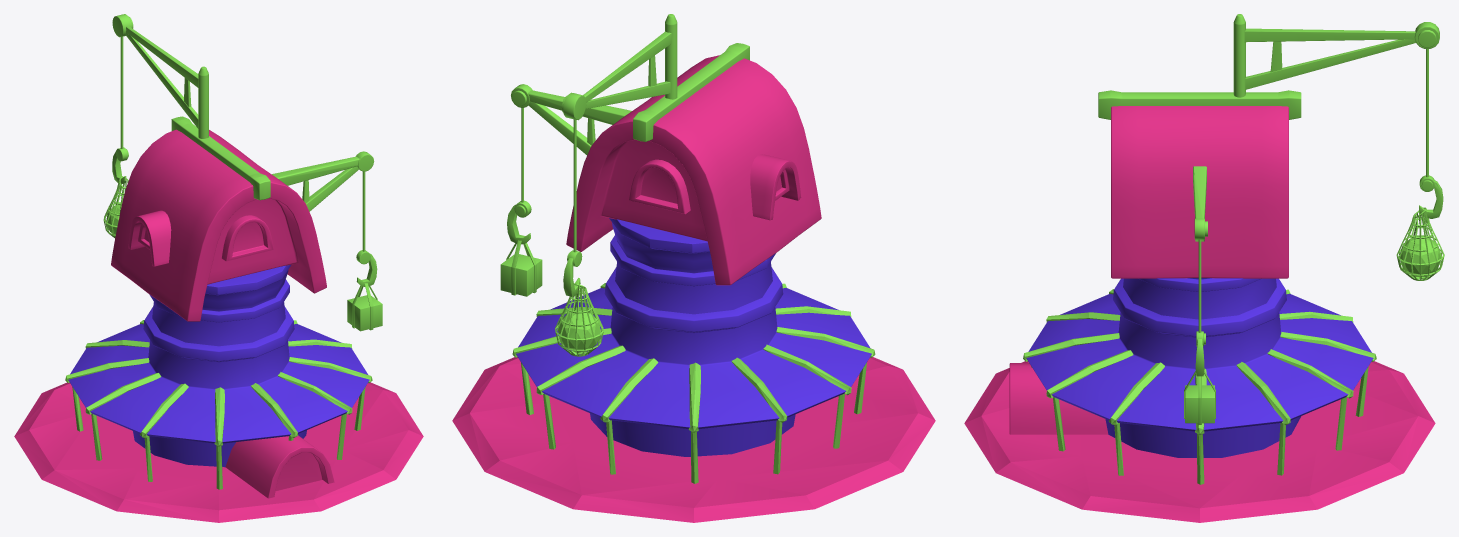
The model's file is Storage_Depot2.fbx.
The picture shows the model from 3 angles, left to right: view 1: azimuth 30°, elevation 25°; view 2: azimuth 150°, elevation 25°; view 3: azimuth 270°, elevation 25°; orthographic projection. The views are drawn at different scales.
Visible parts, largest first — view 1: Entrance.003; view 2: Entrance.003; view 3: Entrance.003.
Boxes of the visible parts, box(x1,y1,x2,y2) form: Entrance.003: box(14, 14, 423, 522); Entrance.003: box(452, 14, 935, 522); Entrance.003: box(964, 14, 1444, 522).
Bounding box in the file's own units: 1267 × 1214 × 1291.
